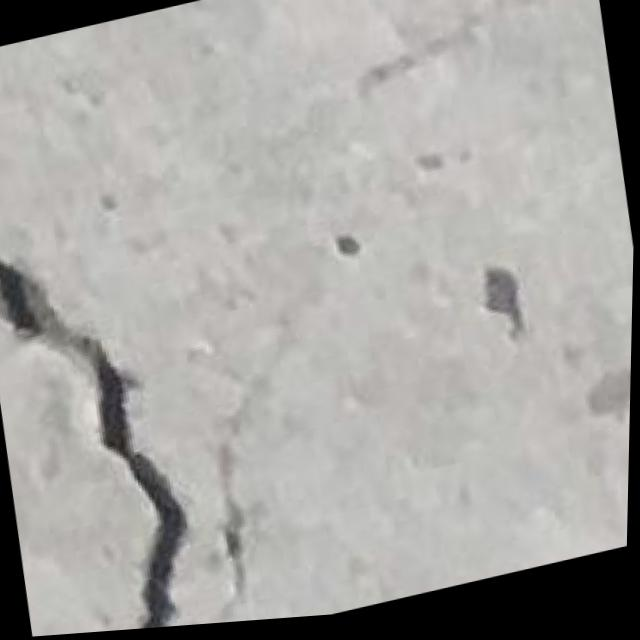Crack: (0, 206, 220, 640), (170, 296, 354, 629)
